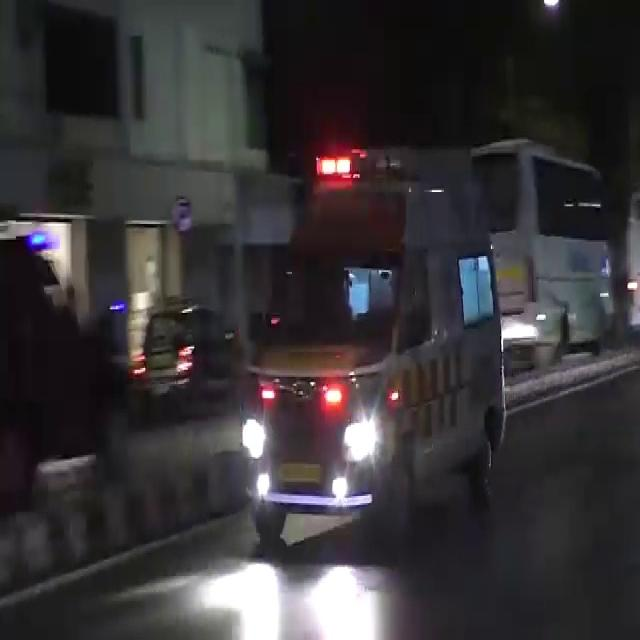ambulance: (239, 137, 520, 506)
